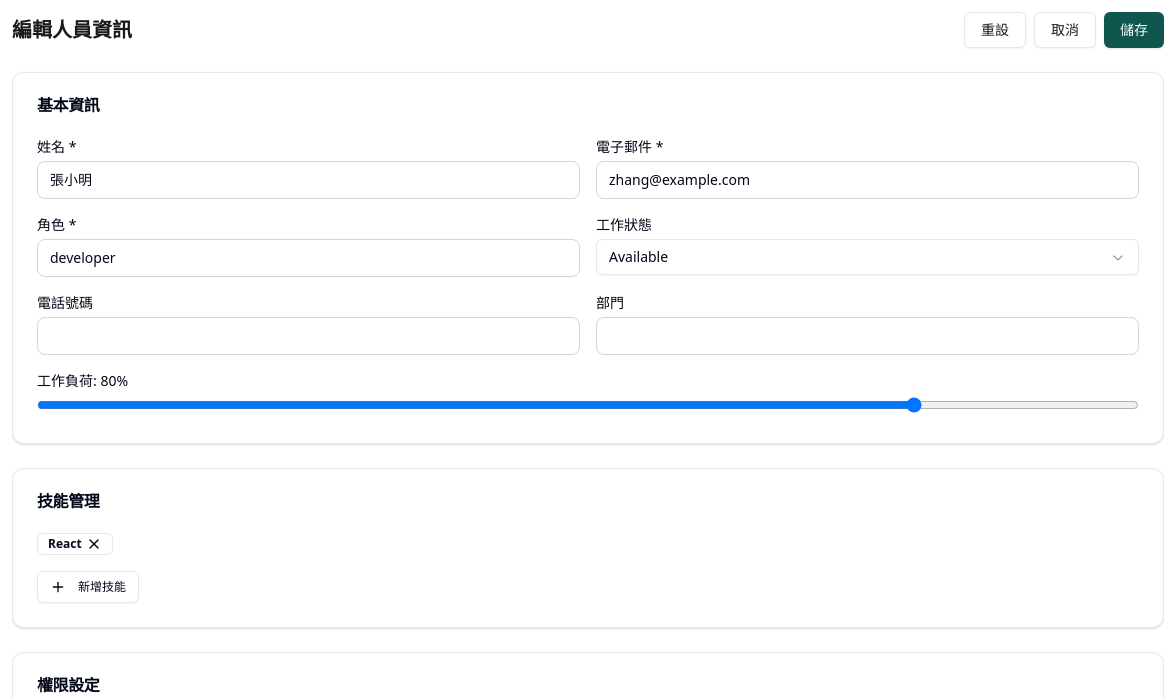
Test case: MemberEditForm › 應該支援表單驗證
Act - 清空必填欄位
Clear the field labelled "姓名" at (308, 180), box [37,161,580,199]
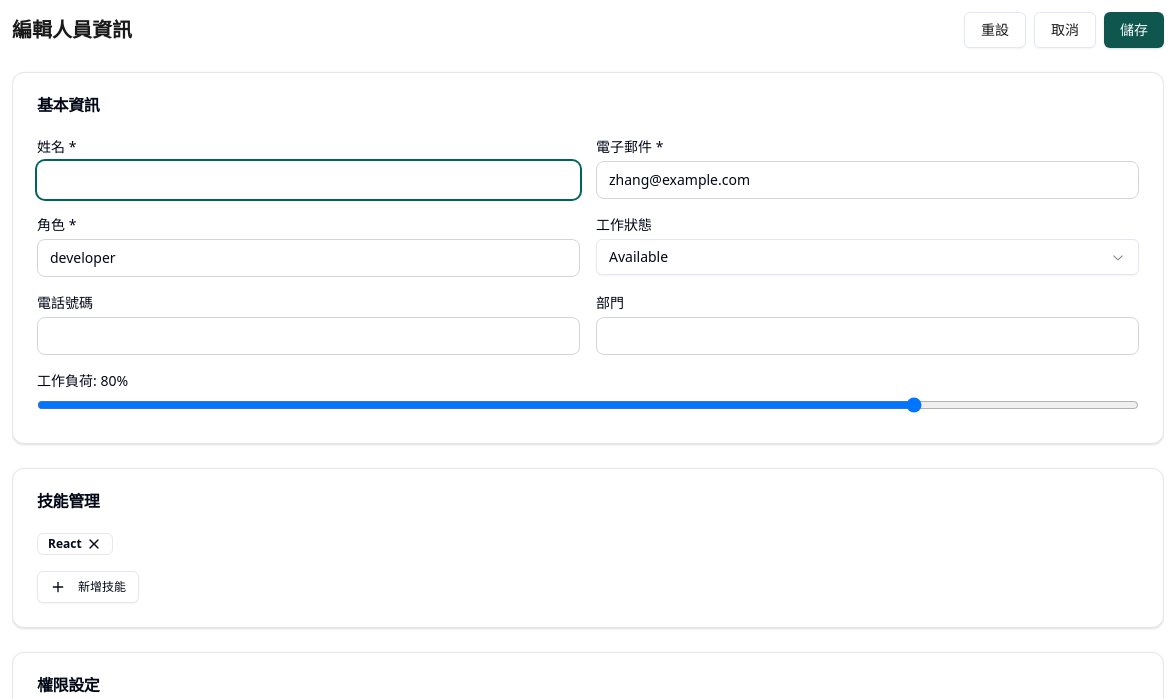
Click the button "儲存" at (1134, 30), box [1104,12,1164,48]
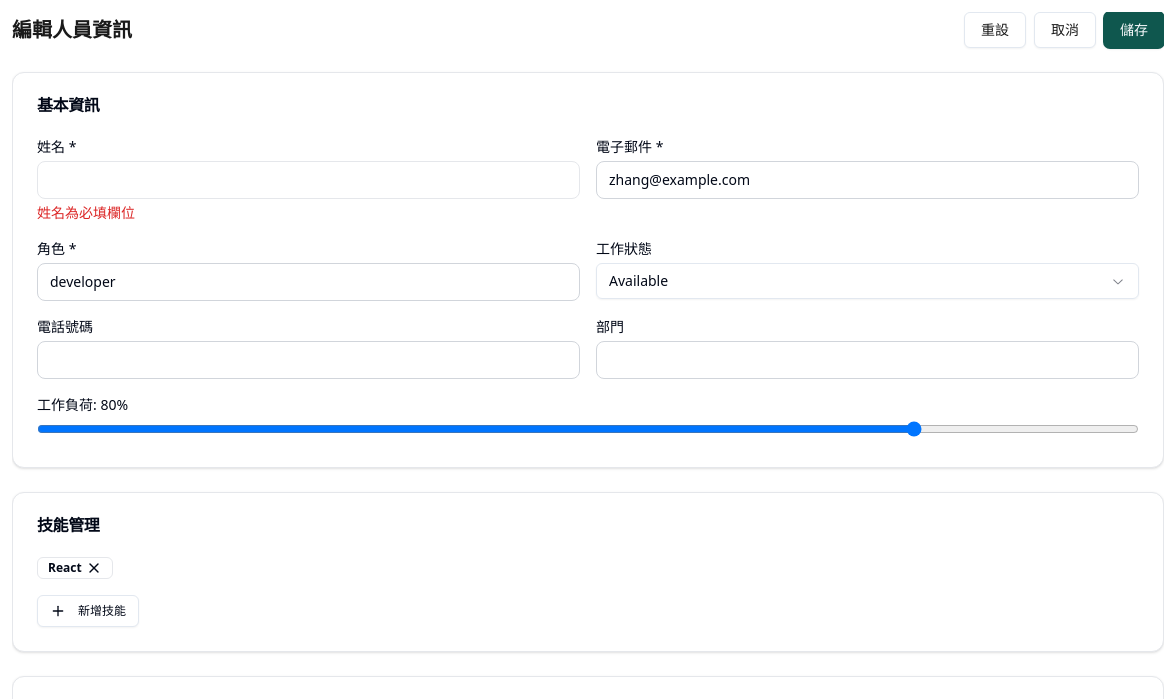
Check: the text "姓名為必填欄位" is shown, box [37,203,135,222]
